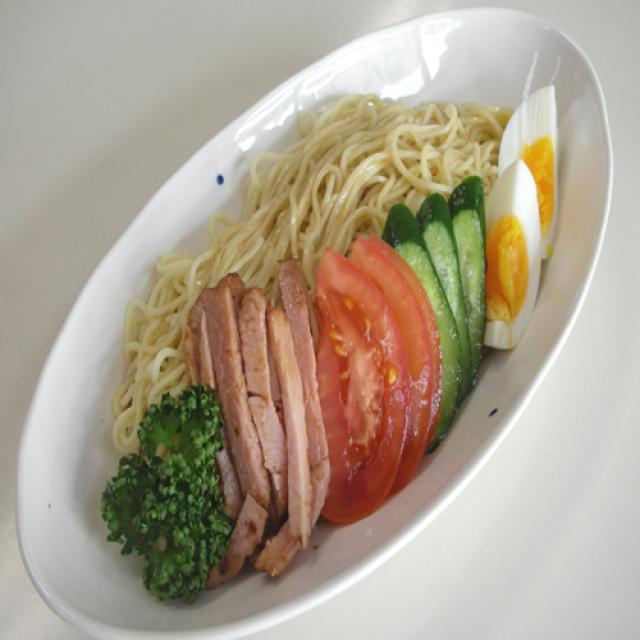面条主食: (11, 0, 614, 640)
